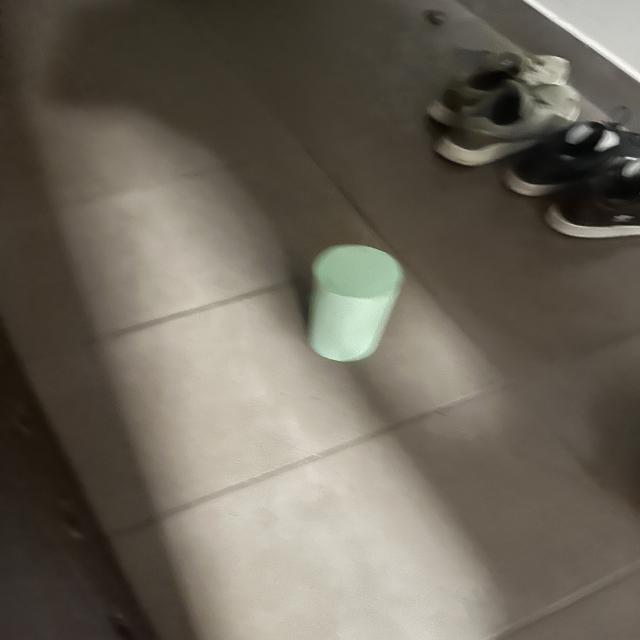meta: (308, 245, 404, 362)
